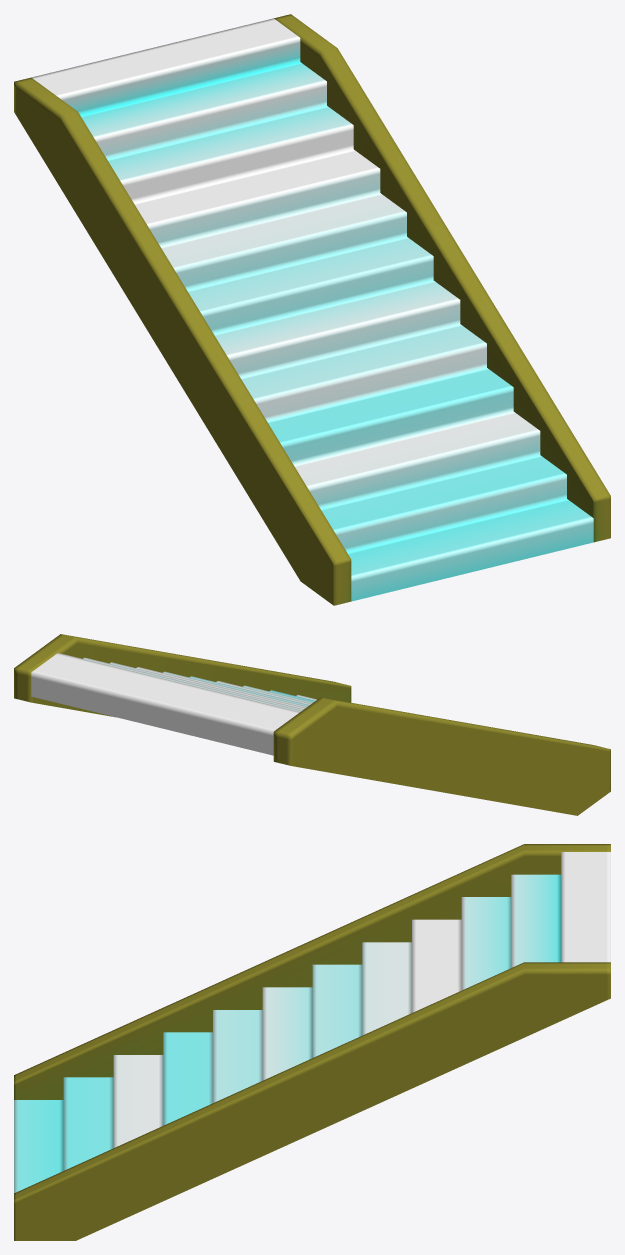
The model's file is SM_SmoothStairs2m.fbx.
The picture shows the model from 3 angles, top to bottom: view 1: azimuth 30°, elevation 25°; view 2: azimuth 150°, elevation 25°; view 3: azimuth 270°, elevation 25°; orthographic projection. The views are drawn at different scales.
Parts seen in each view (by area): view 1: SM_SmoothStairs2m; view 2: SM_SmoothStairs2m; view 3: SM_SmoothStairs2m.
Boxes of the visible parts, x1,y1,x2,y2 form: SM_SmoothStairs2m: (14,14,610,605); SM_SmoothStairs2m: (14,634,610,815); SM_SmoothStairs2m: (14,844,610,1240).
Bounding box in the file's own units: 200 × 200 × 400.
